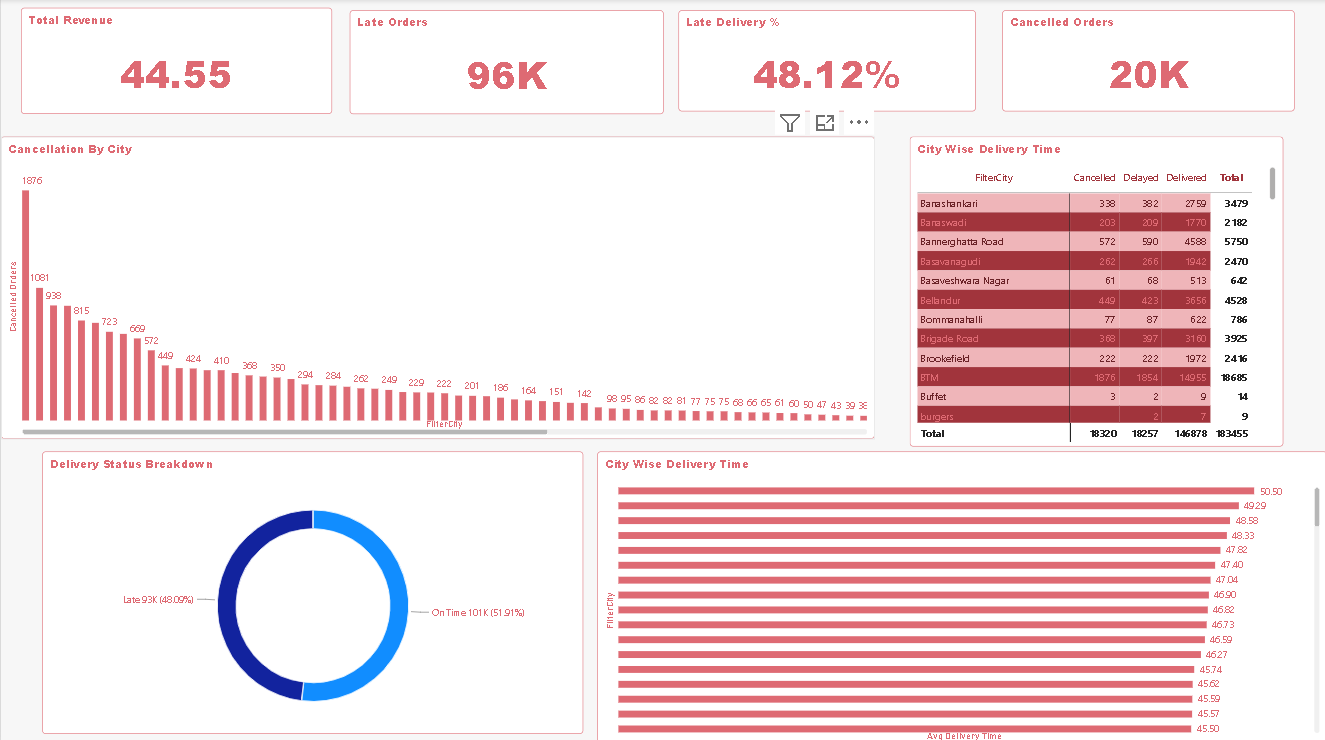

What the dashboard file says about the page in this screenshot:
{"tool":"powerbi","page":{"name":"Delivery and  Opertions","canvas":[1920,1080],"ordinal":3},"visuals":[{"type":"cardVisual","title":"Total Revenue","fields":{"Data":["Orders.Avg Delivery Time"]},"box":[29,12.7,450.6,153.8],"z":0},{"type":"cardVisual","title":"Late Orders","fields":{"Data":["Orders.Late Orders"]},"box":[504.9,16.3,454.2,150.2],"z":1000},{"type":"cardVisual","title":"Late Delivery %","fields":{"Data":["Orders.Late Delivery %"]},"box":[980.8,16.3,430.7,146.6],"z":2000},{"type":"cardVisual","title":"Cancelled Orders","fields":{"Data":["Orders.Cancelled Orders"]},"box":[1449.5,16.3,423.5,146.6],"z":3000},{"type":"barChart","title":"City Wise Delivery Time","fields":{"Category":["Customers.FilterCity"],"Y":["Orders.Avg Delivery Time"]},"box":[863.2,655.1,1056.8,425.3],"z":4000},{"type":"donutChart","title":"Delivery Status Breakdown","fields":{"Category":["Orders.Delivery Status"],"Y":["Orders.Total Orders"]},"box":[59.7,655.1,783.6,409],"z":5000},{"type":"columnChart","title":"Cancellation By City","fields":{"Category":["Customers.FilterCity"],"Y":["Orders.Cancelled Orders"]},"box":[0,199.1,1265,437.9],"z":6000},{"type":"pivotTable","title":"City Wise Delivery Time","fields":{"Rows":["Customers.FilterCity"],"Columns":["Orders.OrderStatus"],"Values":["Orders.Total Orders"]},"box":[1315.6,199.1,541.1,448.8],"z":7000}]}

Visuals, with their boxes in screenshot pixels (x1, y1, x2, y2), scaled from the page's 1920x1080 canvas onto the 1325x740 screenshot:
"Total Revenue" cardVisual: {"left": 20, "top": 9, "right": 331, "bottom": 114}
"Late Orders" cardVisual: {"left": 348, "top": 11, "right": 662, "bottom": 114}
"Late Delivery %" cardVisual: {"left": 677, "top": 11, "right": 974, "bottom": 112}
"Cancelled Orders" cardVisual: {"left": 1000, "top": 11, "right": 1293, "bottom": 112}
"City Wise Delivery Time" barChart: {"left": 596, "top": 449, "right": 1324, "bottom": 739}
"Delivery Status Breakdown" donutChart: {"left": 41, "top": 449, "right": 582, "bottom": 729}
"Cancellation By City" columnChart: {"left": 0, "top": 136, "right": 873, "bottom": 436}
"City Wise Delivery Time" pivotTable: {"left": 908, "top": 136, "right": 1281, "bottom": 444}
